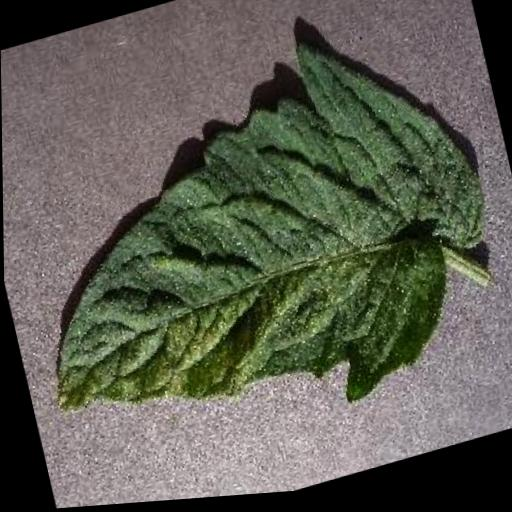Spider Mites: (0, 4, 512, 482)
